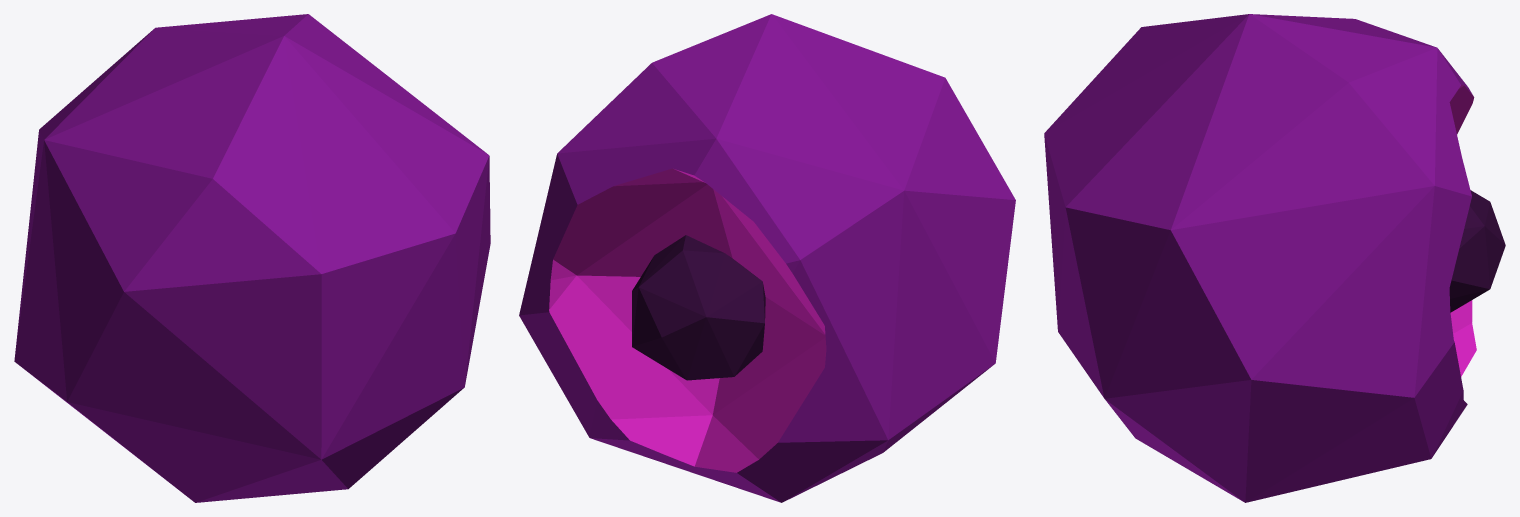
File: slime.fbx
The picture shows the model from 3 angles, left to right: view 1: azimuth 30°, elevation 25°; view 2: azimuth 150°, elevation 25°; view 3: azimuth 270°, elevation 25°; orthographic projection. The views are drawn at different scales.
Visible parts, largest first — view 1: Icosphere; view 2: Icosphere, Icosphere.001; view 3: Icosphere, Icosphere.001.
Boxes of the visible parts, x1,y1,x2,y2 form: Icosphere: (14,14,490,502); Icosphere: (519,14,1015,502); Icosphere.001: (632,235,765,380); Icosphere: (1044,14,1476,502); Icosphere.001: (1449,190,1505,312).
Bounding box in the file's own units: 198 × 197 × 181.
